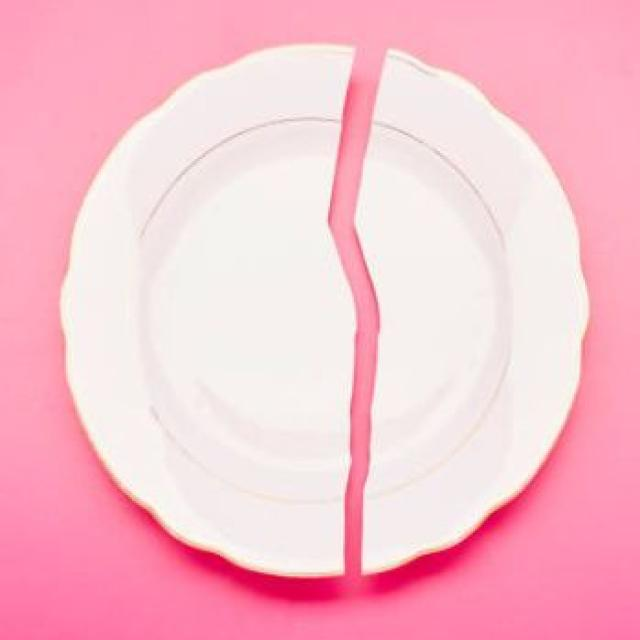electronic: (59, 43, 592, 582)
